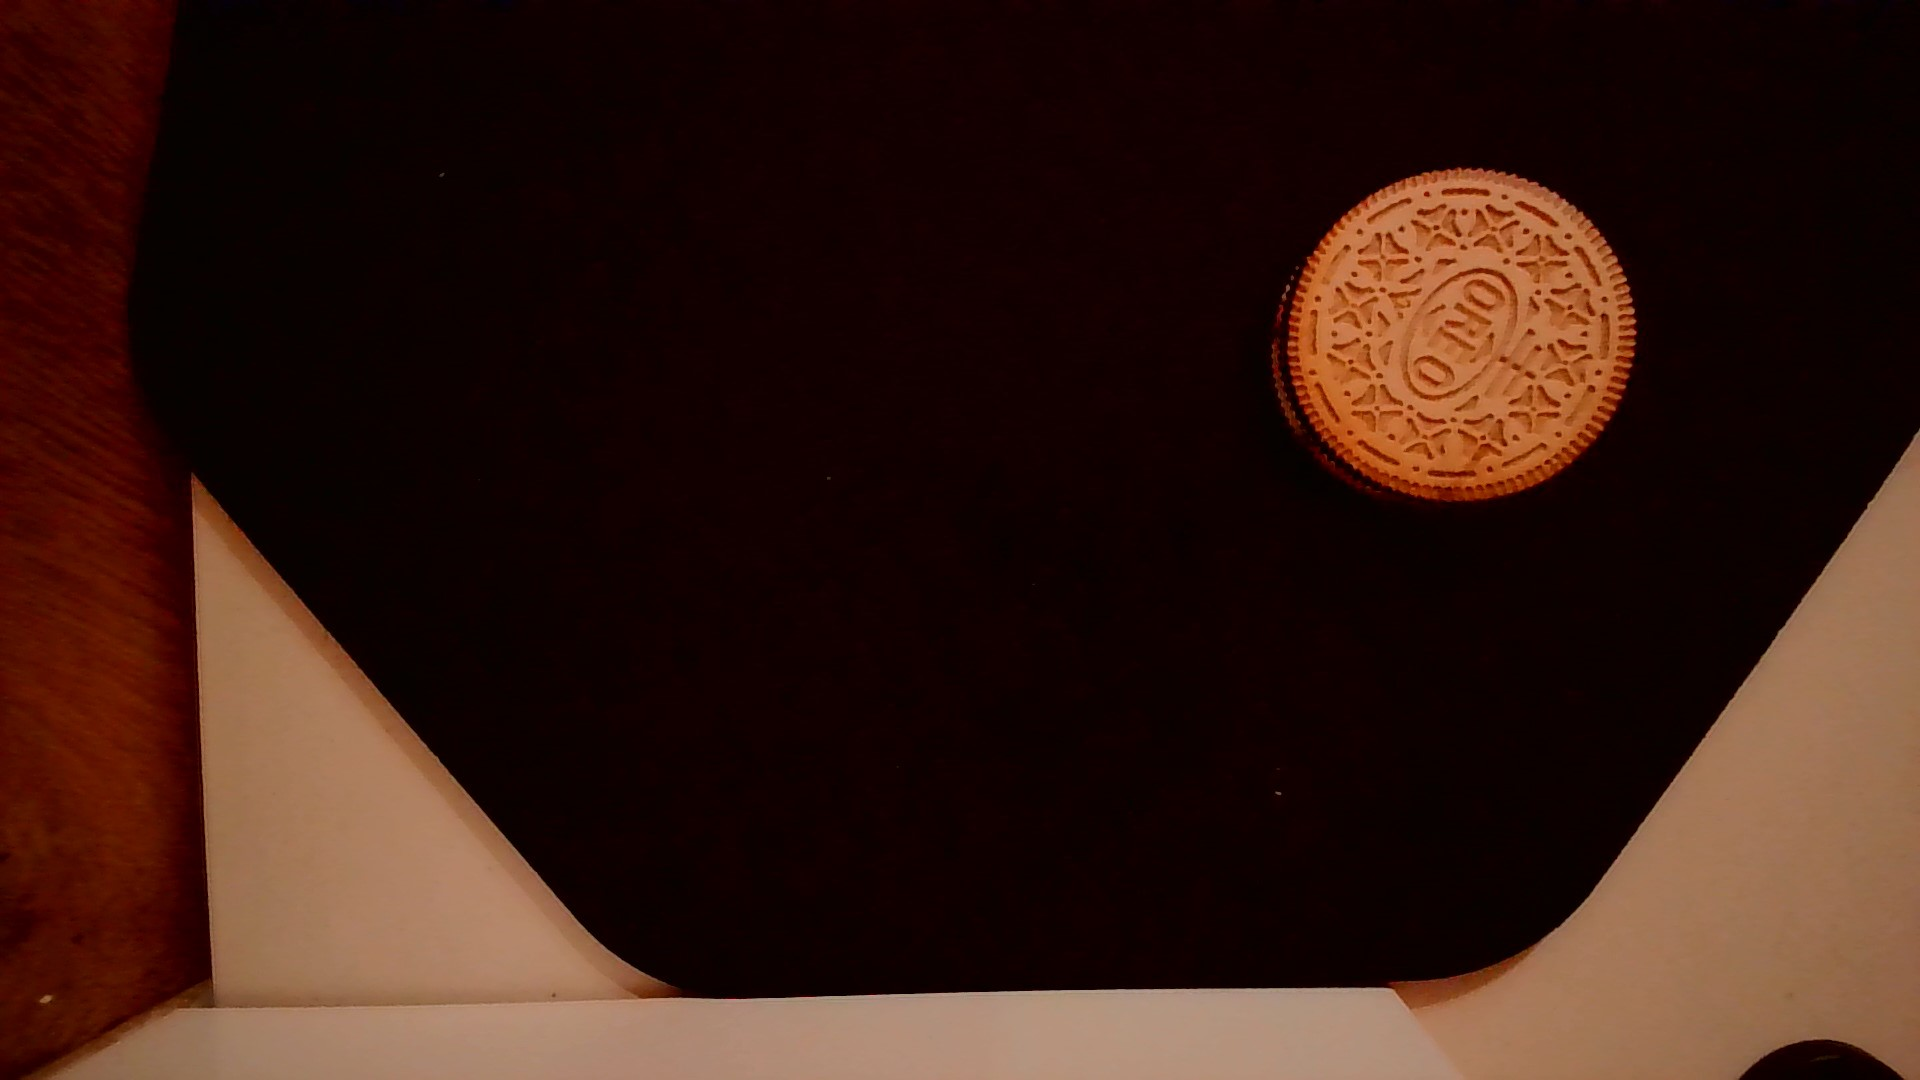Oréo: (1255, 157, 1644, 516)
